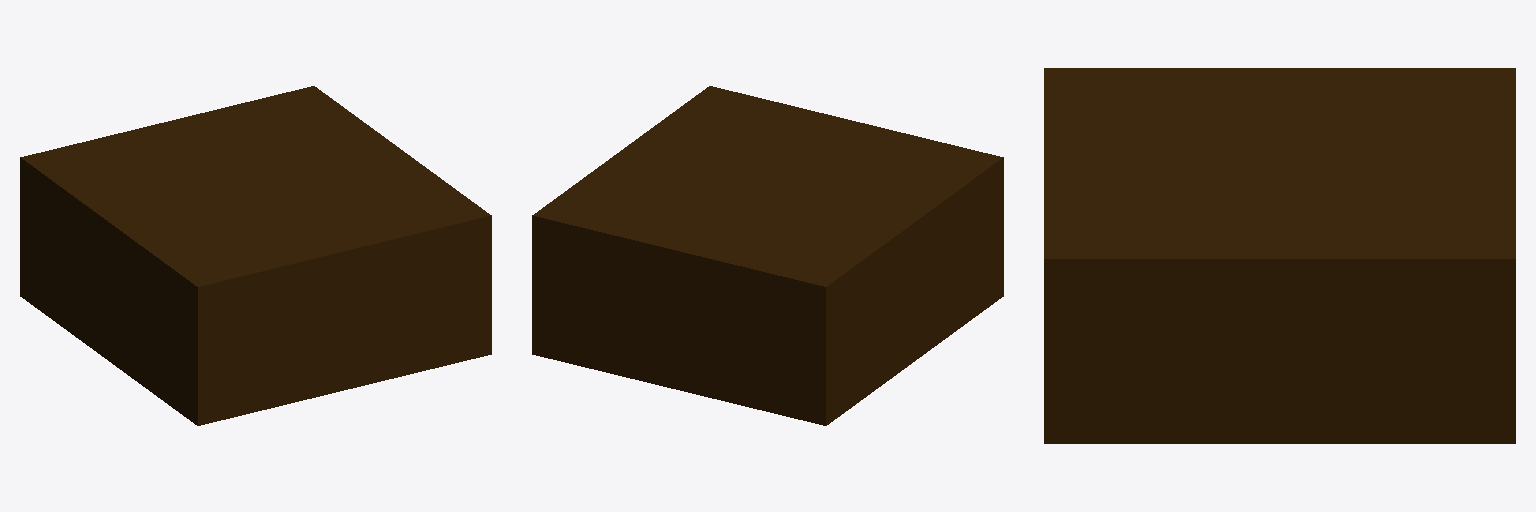
The robot description file, URDF, robot "box":
<?xml version="1.0" ?>
<robot name="box">
	<link name="box">
		<inertial>
			<origin xyz="0 0 0" rpy="0 0 0" />
			<mass value="0.1"/>
			<inertia ixx="1" ixy="0" ixz="0"
			iyy="1" iyz="0"
			izz="1" />
		</inertial>
		<visual>
			<geometry>
				<mesh filename="package://mc_int_obj_description/meshes/box/box.stl" />
			</geometry>
			<material name="CardBoard">
				<color rgba="0.2667536437511444 0.17454615235328674 0.06440283358097076 1" />
			</material>
		</visual>

	</link>
</robot>

--- What the picture shows (computed from the rendered views, not written in the file) ---
The picture shows the robot from 3 angles, left to right: view 1: azimuth 30°, elevation 25°; view 2: azimuth 150°, elevation 25°; view 3: azimuth 270°, elevation 25°; orthographic projection.
Robot: box — 1 links, 0 joints (none); root link box; default pose: all joints at 0.
Visible links, largest first — view 1: box; view 2: box; view 3: box.
Link boxes in pixels (left/top/right/bottom): box: left=20, top=86, right=491, bottom=425; box: left=532, top=86, right=1003, bottom=425; box: left=1044, top=68, right=1515, bottom=443.
Size in the robot's own frame: 0.221 by 0.231 by 0.1 metres.
1 mesh visuals loaded from 1 distinct referenced files (1 binary STL).